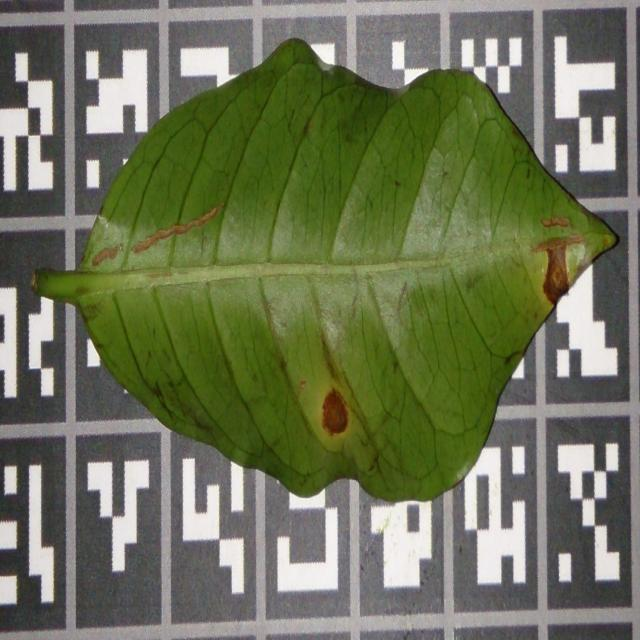Enfermedad-Mancha-de-hierro: (32, 39, 619, 506)
